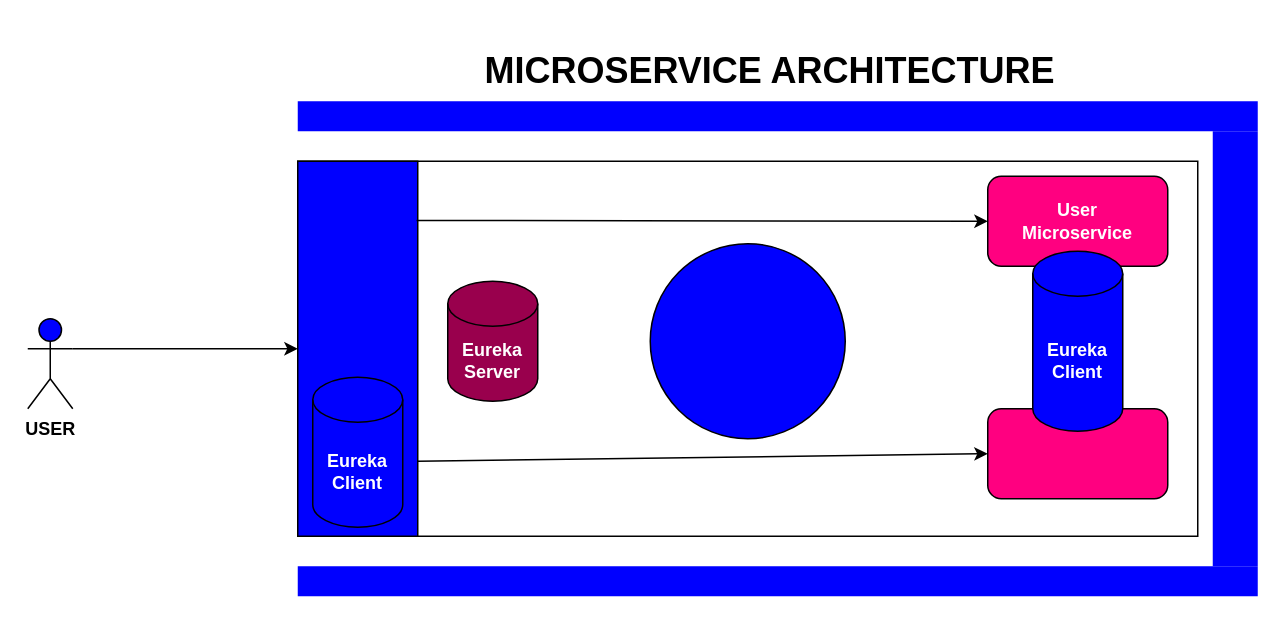
The diagram is 1284 pixels wide and 621 high, and some of its shapes have lost their labels. Here are the shapes that lost their labels. From the top down, the box of each, then its label:
(296, 160, 418, 536): API Gateway
(649, 242, 845, 439): Reselience4j
(986, 407, 1168, 499): Department Microservice
